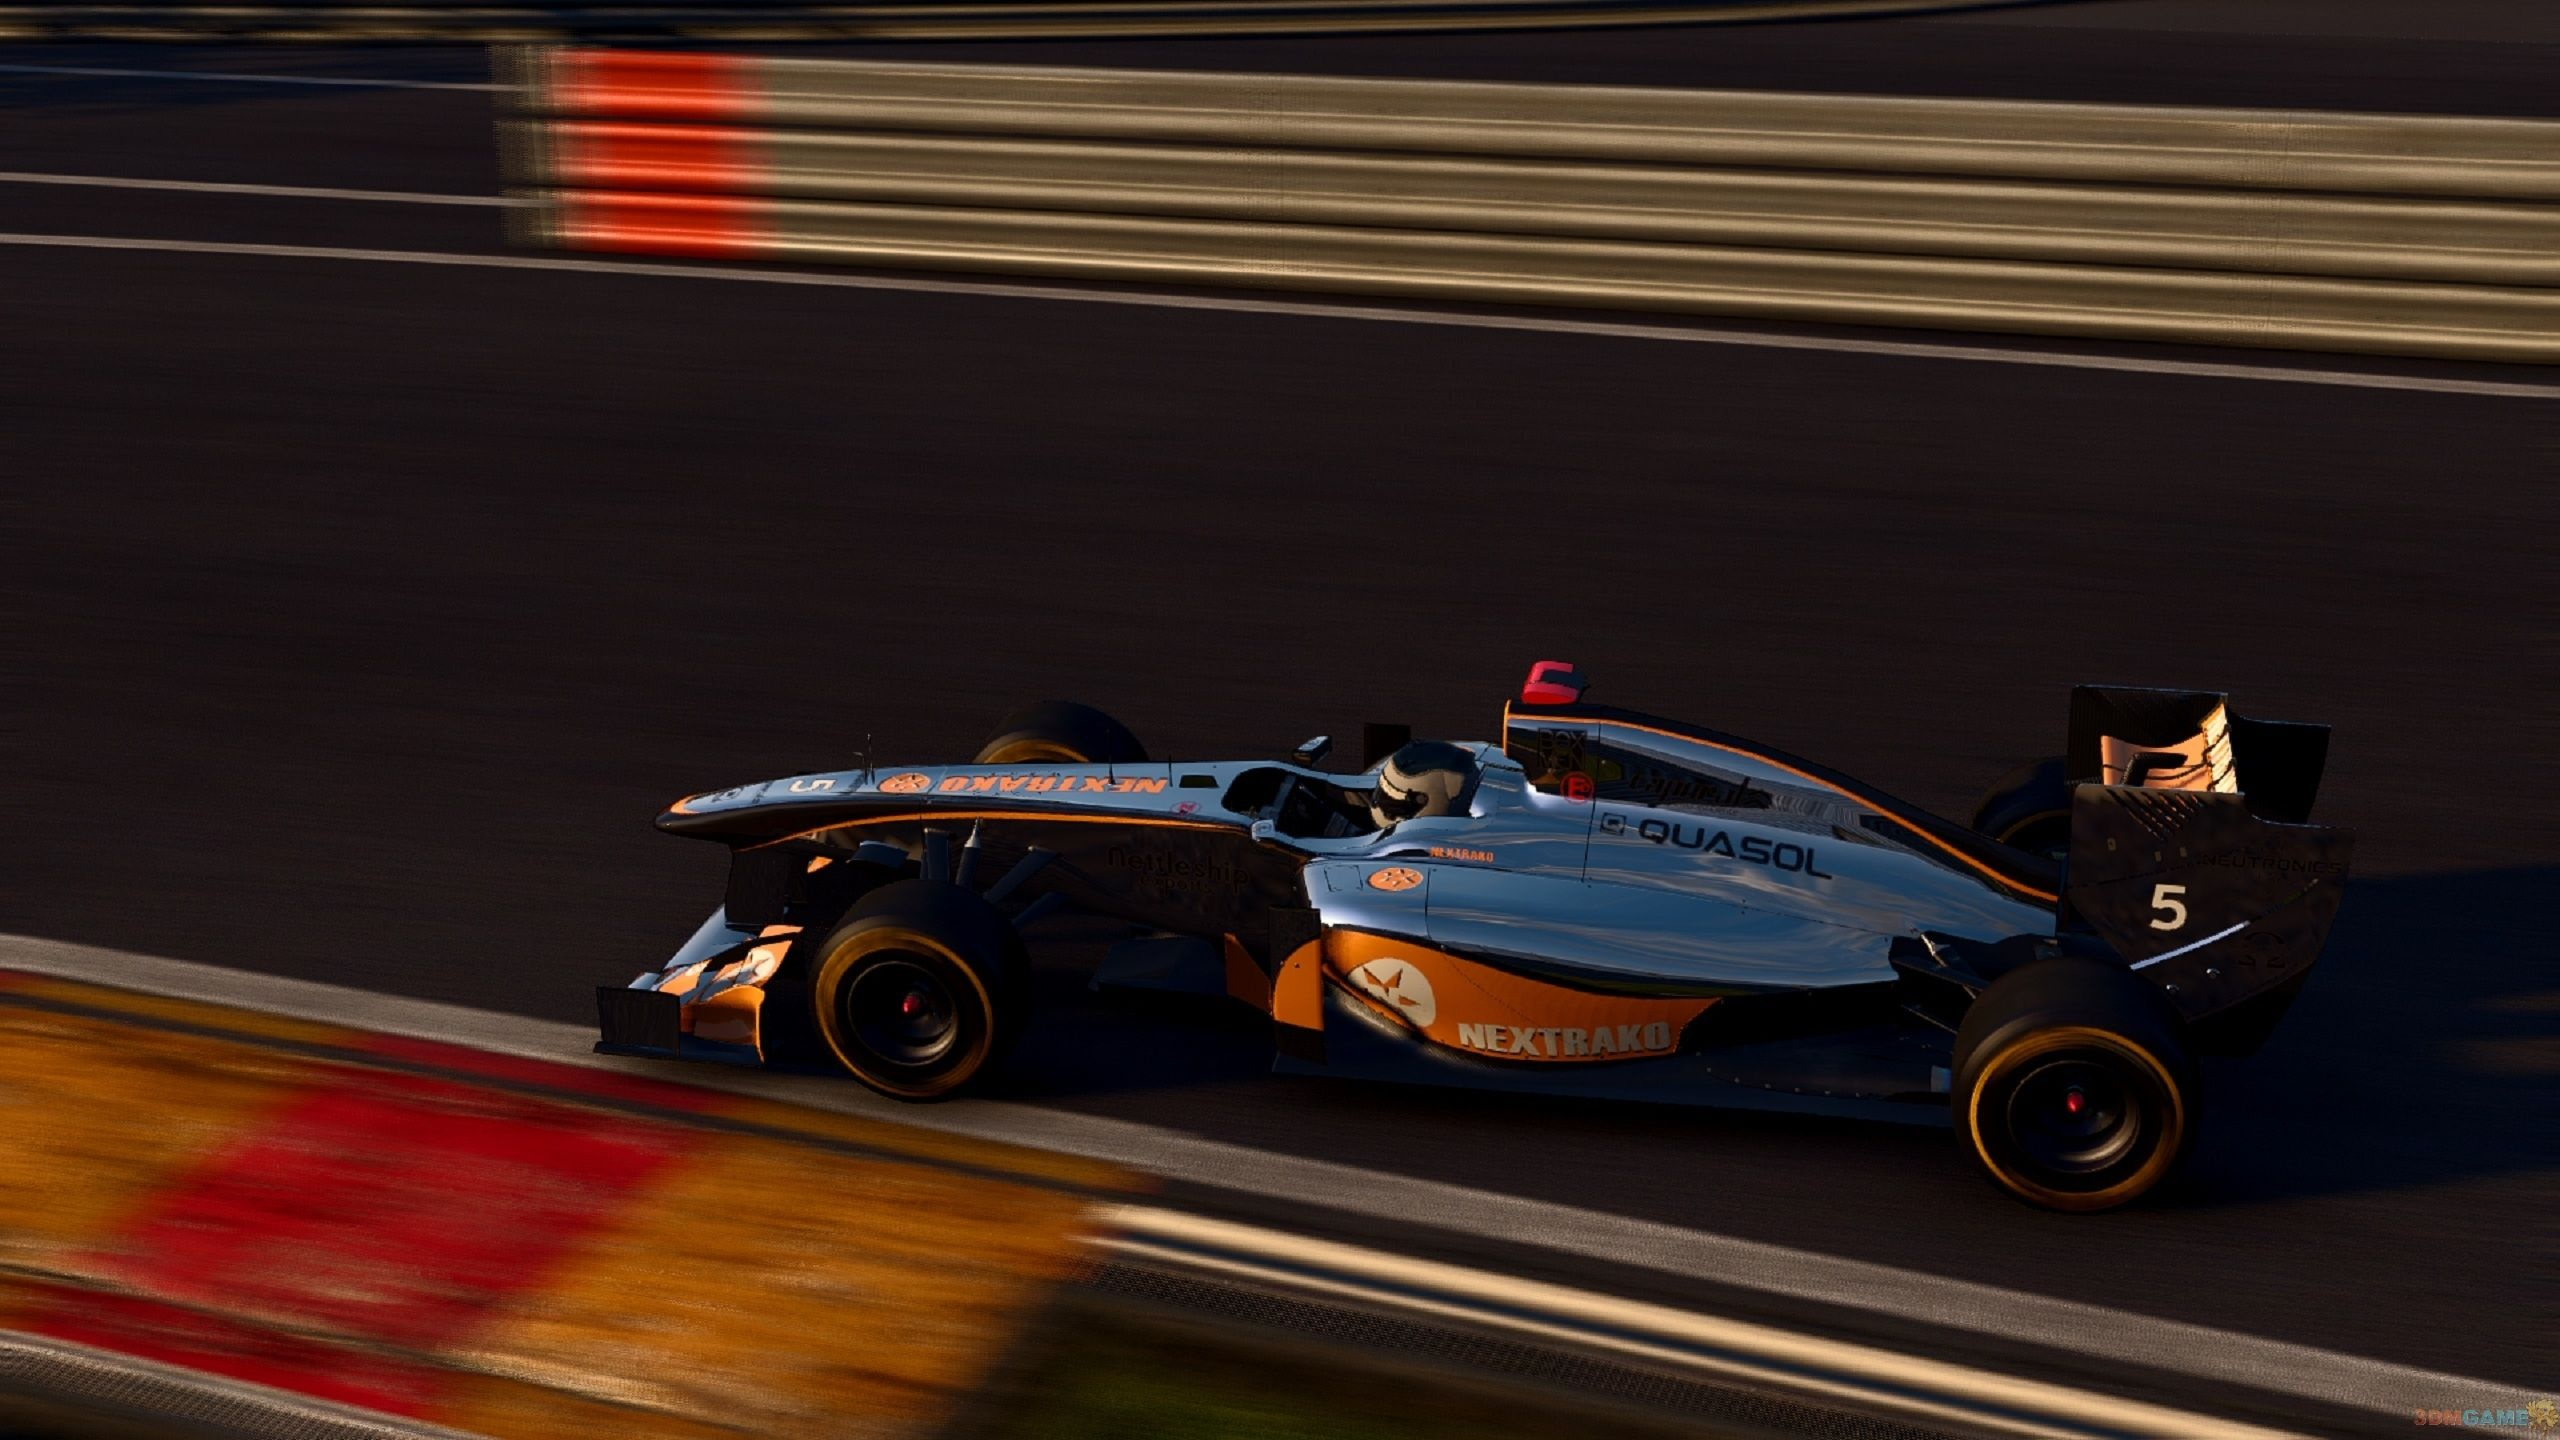racing car: (563, 622, 2289, 1259)
